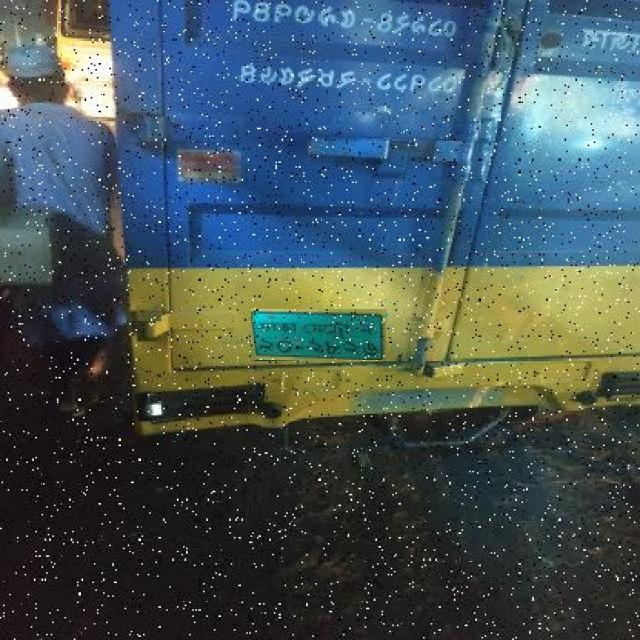numberplate: (251, 309, 386, 360), (306, 134, 389, 160)
